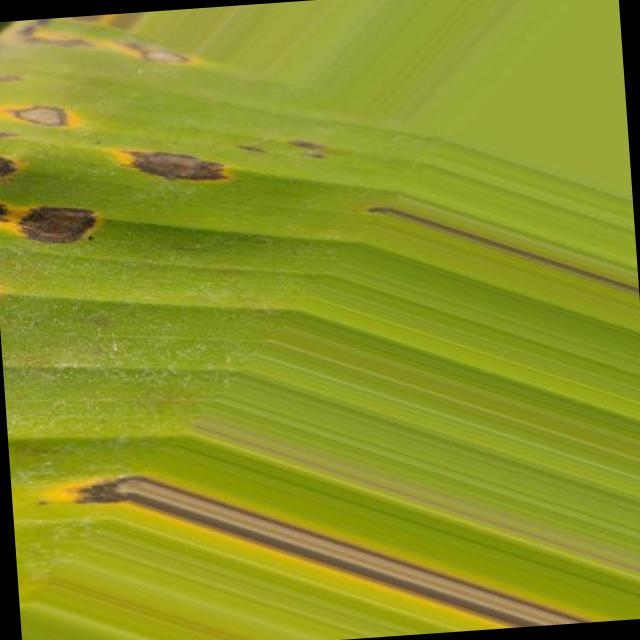Banana_Yellow_Sigatoka: (62, 397, 616, 640), (121, 103, 258, 211), (12, 188, 116, 265), (0, 77, 90, 152)
